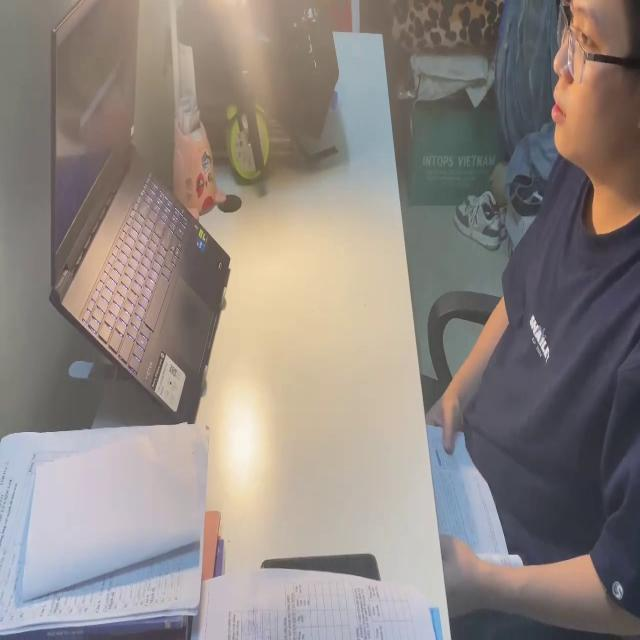book: (46, 7, 232, 420), (0, 426, 222, 640), (201, 566, 445, 640), (427, 415, 526, 572)
phone: (266, 554, 381, 582)
student: (424, 0, 640, 640)
